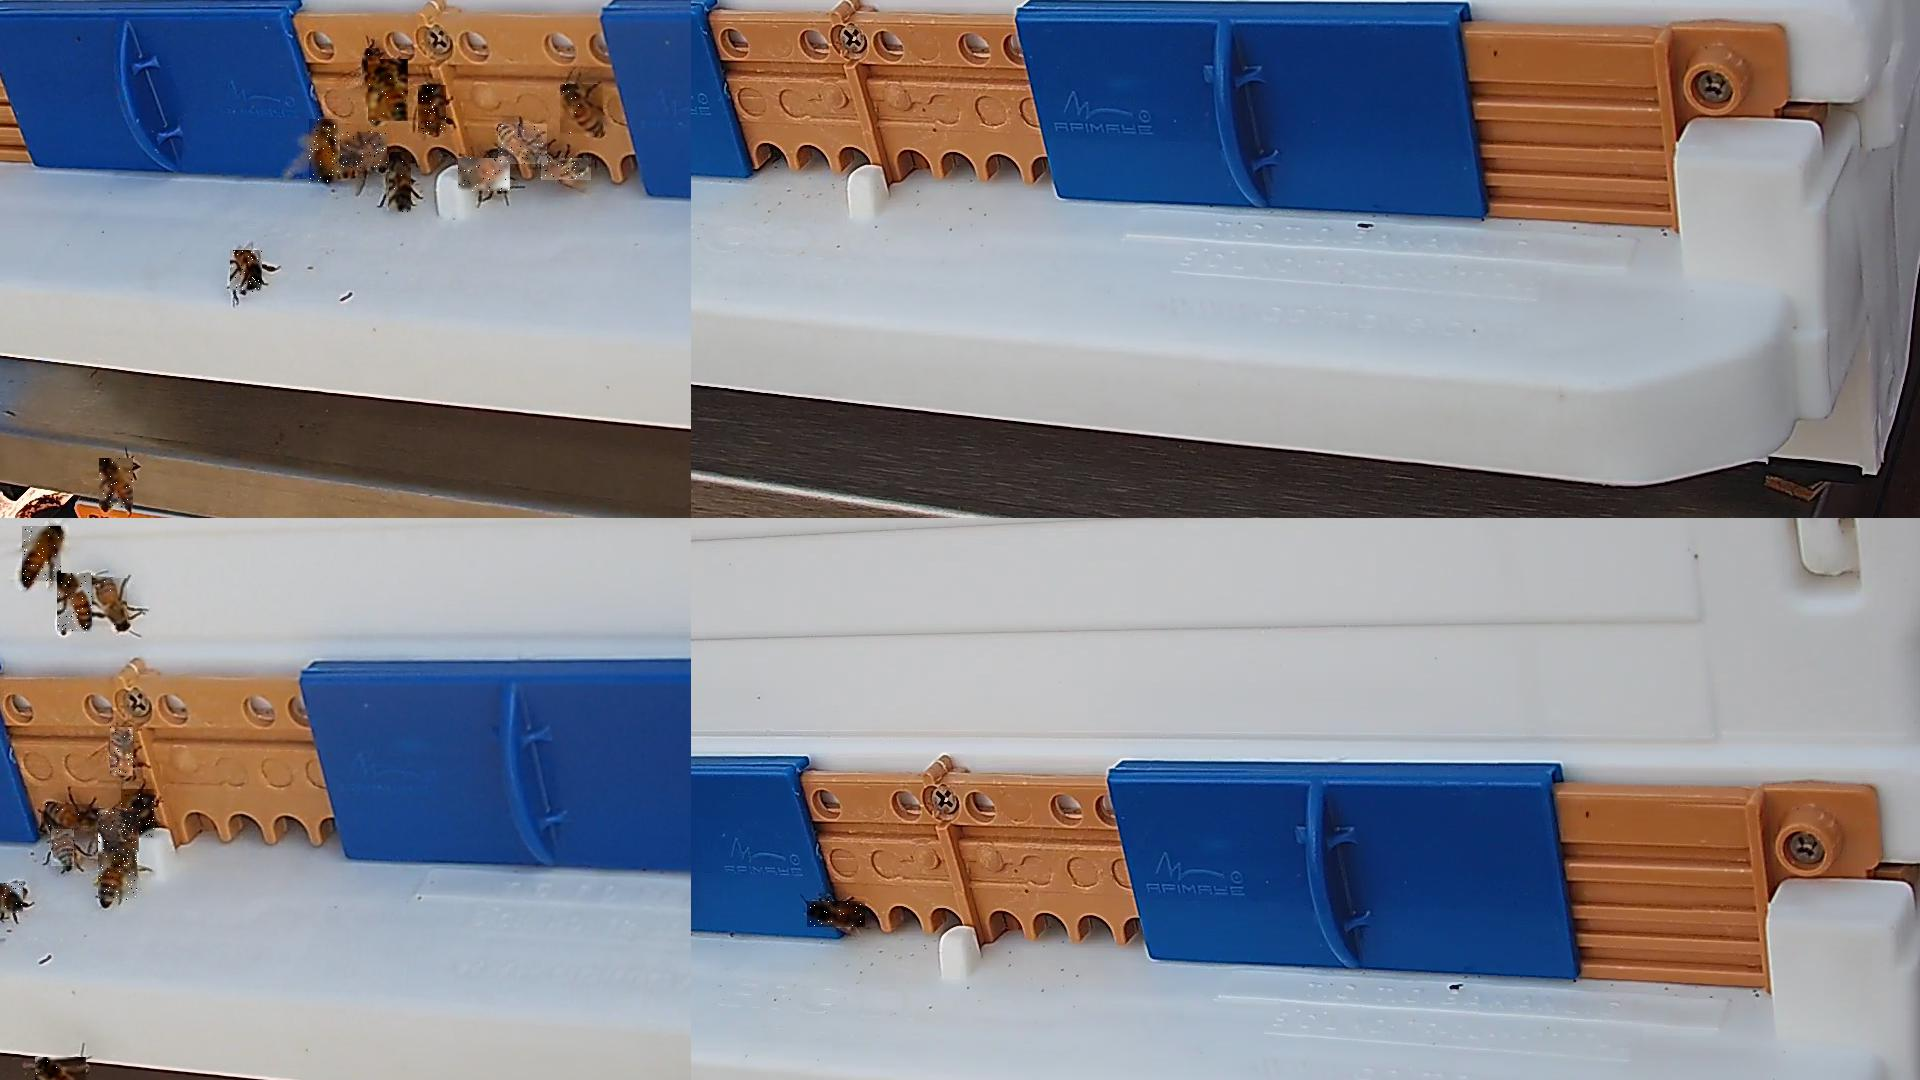bee: (560, 84, 604, 137), (22, 526, 62, 584), (57, 574, 94, 634), (498, 125, 549, 167), (98, 808, 140, 857), (309, 119, 339, 185), (458, 158, 512, 194), (92, 579, 128, 630), (340, 133, 388, 171), (99, 459, 135, 509), (121, 789, 156, 839), (807, 901, 866, 928), (231, 251, 264, 295), (418, 86, 447, 136), (389, 152, 411, 214), (41, 804, 100, 827), (542, 158, 592, 183), (111, 727, 135, 777), (363, 49, 381, 102), (51, 829, 75, 870), (0, 884, 25, 916)
pollenbee: (368, 59, 409, 123), (98, 844, 138, 902), (36, 1058, 88, 1079)
